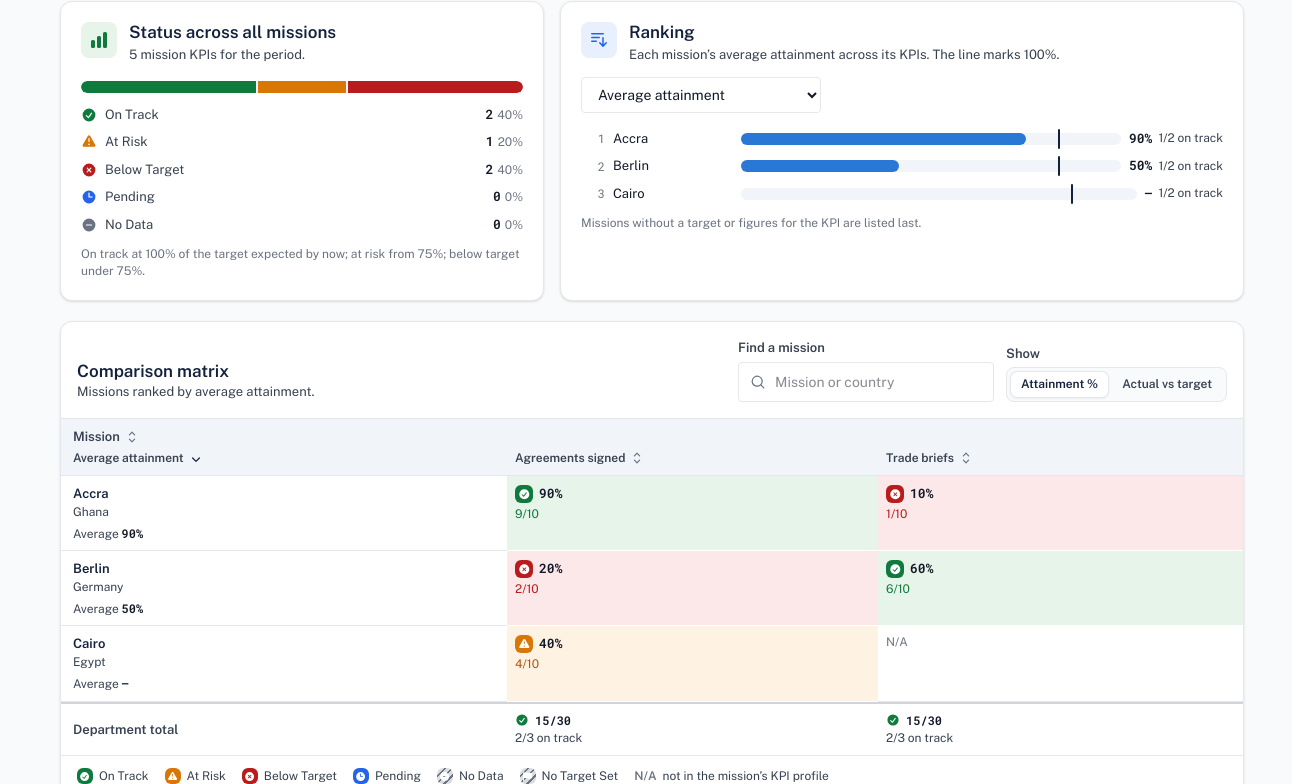
it: KpiComparisonPage › switches the cells between attainment and actual-against-target
The image size is (1292, 784).
(page scrolled)
Expected: the cell with test id "kpi-cell-kpi-agreements" shows "90%", [539,484,562,502]
Step 1. Click the radio button labelled "Actual vs target" → click(1167, 384), box [1112,372,1222,397]
(page scrolled)
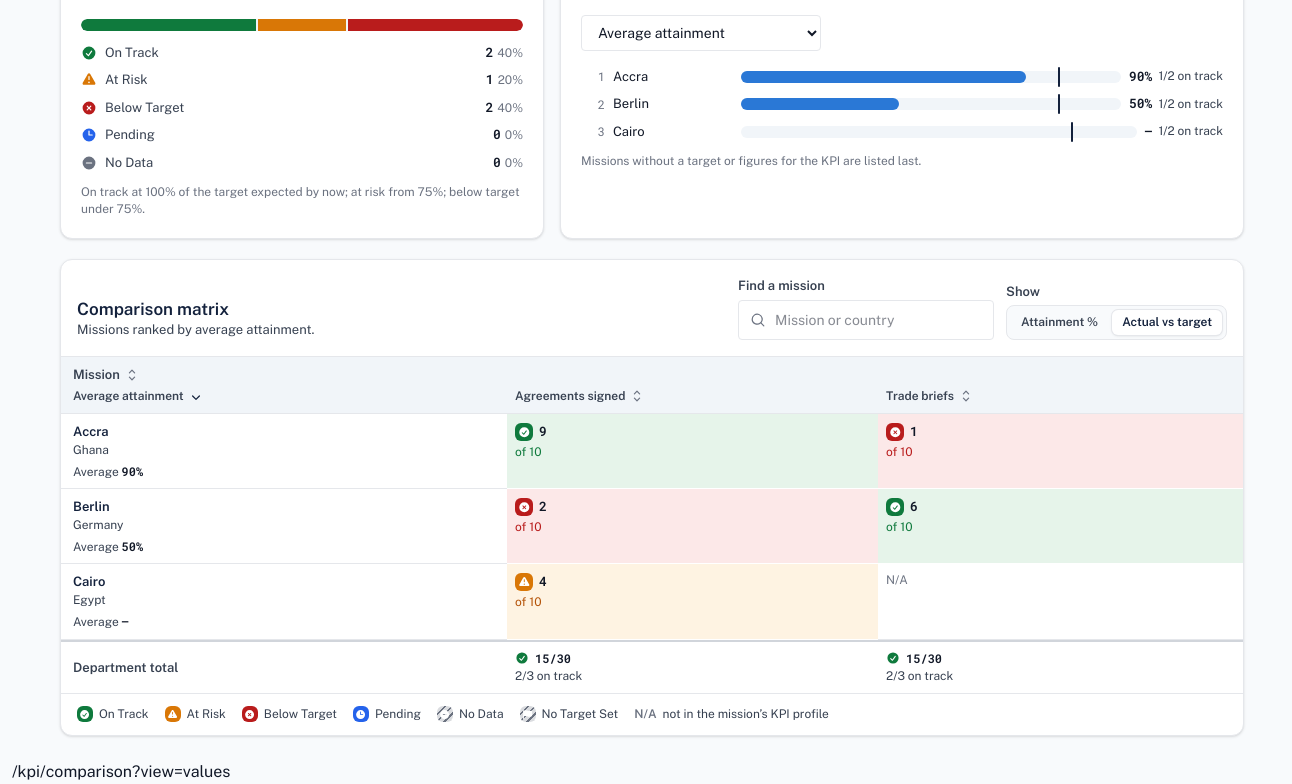
Result: the cell with test id "kpi-cell-kpi-agreements" reads "9 of 10" at [507,414,878,489]
Result: the text with test id "location" shows "view=values" at [12,762,230,781]
